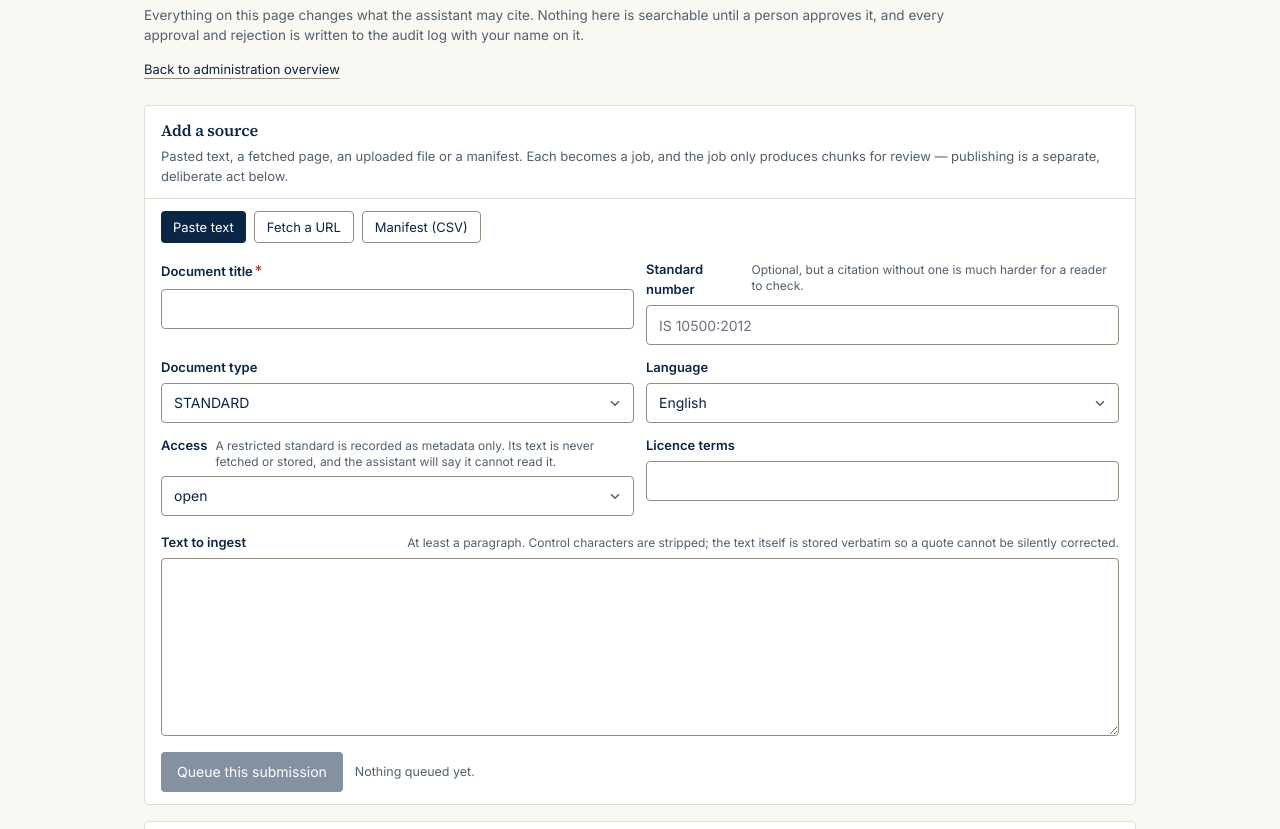
Test: the knowledge admin page › shows job warnings on the submission panel, including the metadata-only case
Type "IS 10500:2012" into the field labelled "Document title" at (398, 309), box [161, 289, 634, 329]
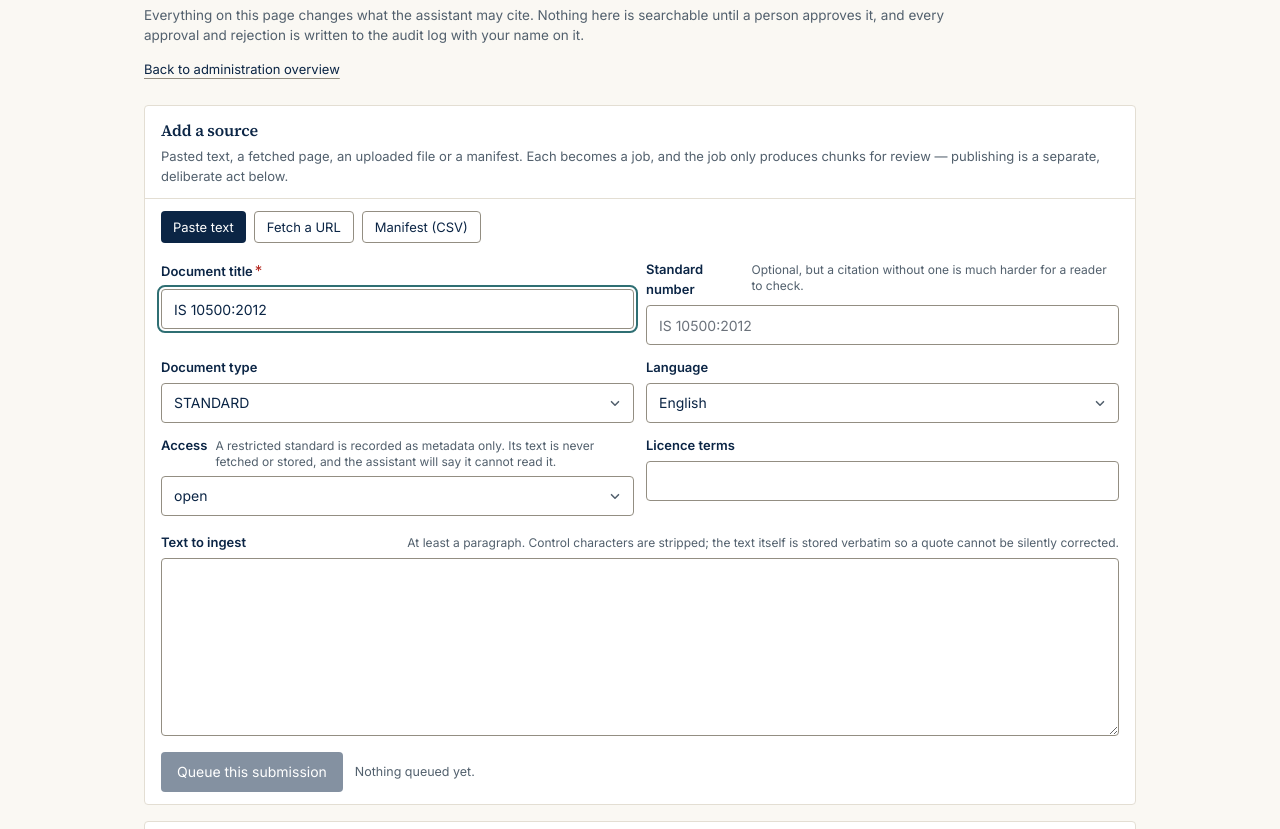
Type "The material shall conform to the chemical composition specified in Table 1 for grades 304 and 316, and the carbon content shall not exceed 0.08 percent by mass." into the text box labelled "Text to ingest" at (640, 647), box [161, 558, 1119, 736]
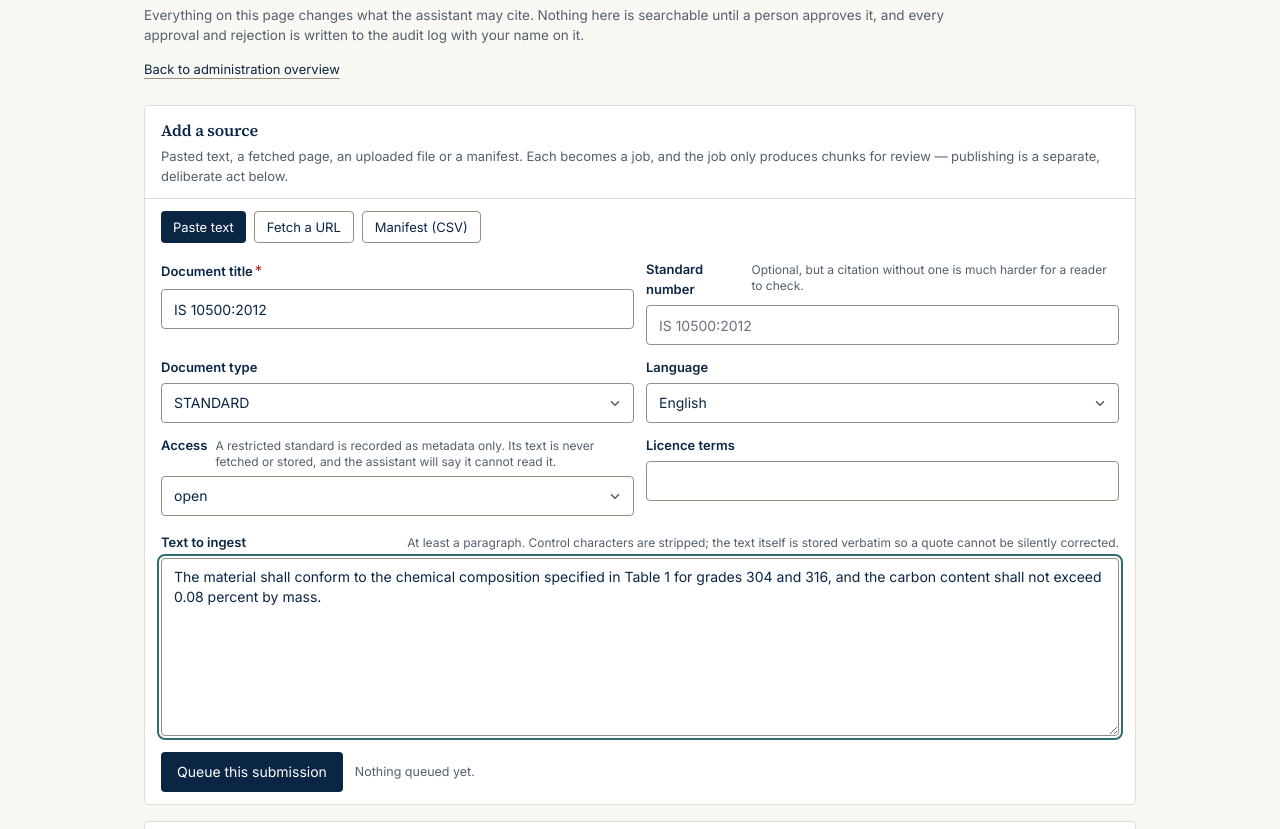
Click the button "Queue this submission" at (252, 772), box [161, 752, 343, 792]
(page scrolled)
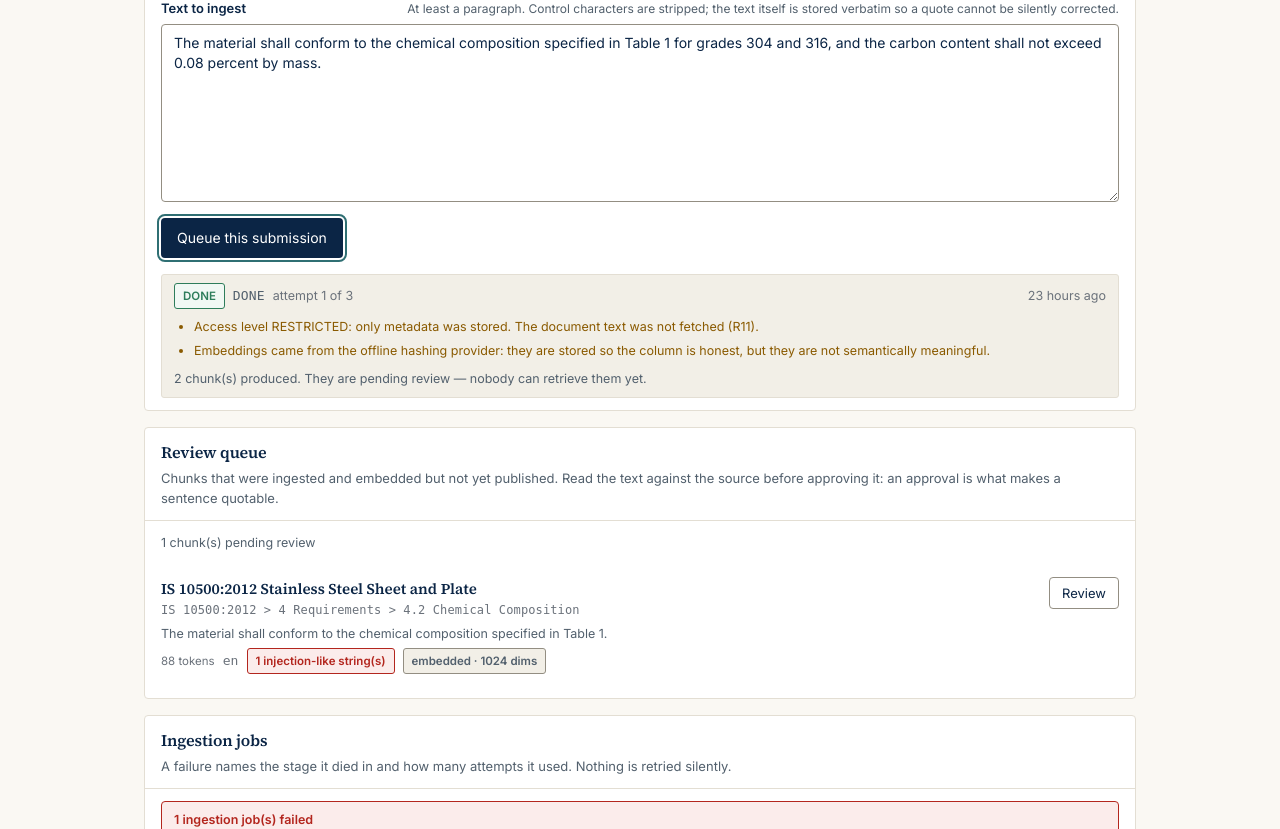
Expected: the list item "not semantically meaningful" is shown, [194, 343, 990, 358]
Expected: the text "2 chunk(s) produced" is shown, [174, 371, 301, 386]
